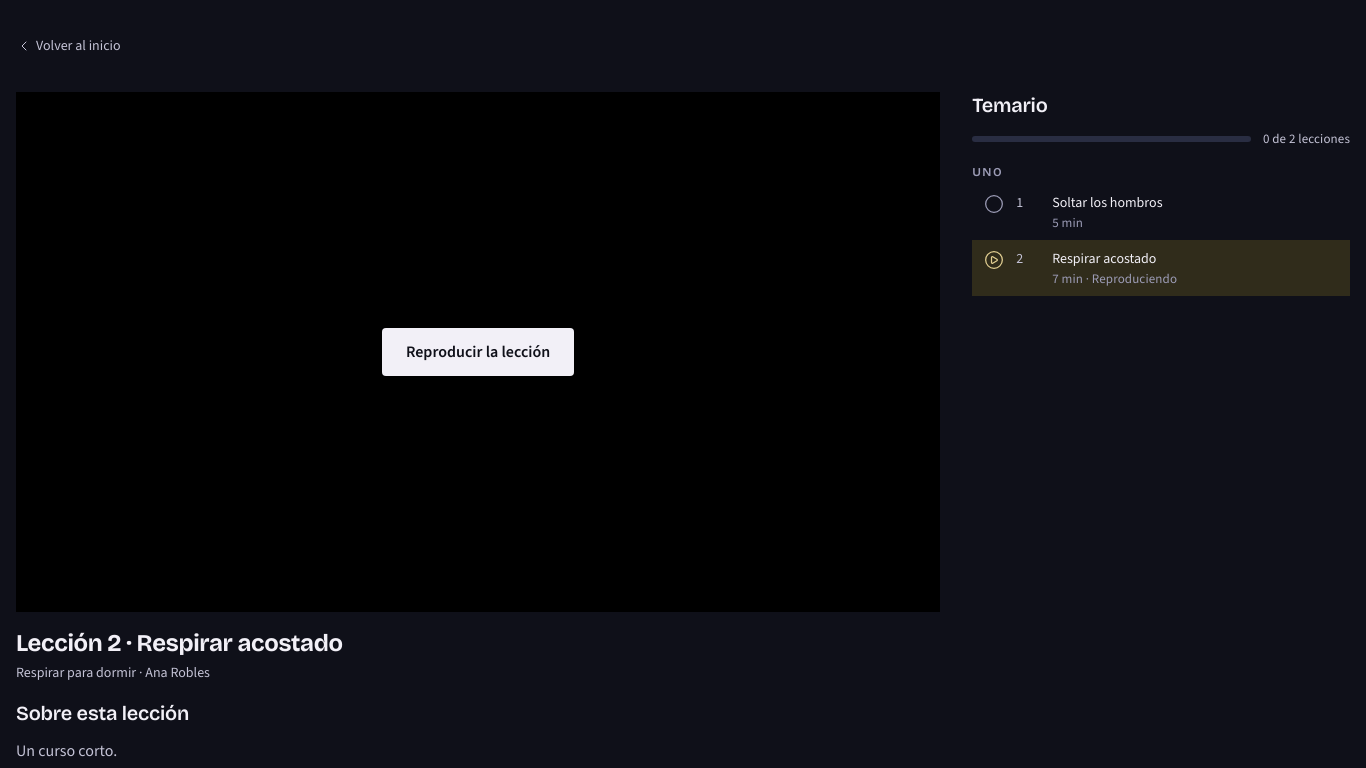
Test: PA-34: la cuenta ya reproduce en otro lugar (T-204, RF-107) › con más de una, en plural; y lo que no se sabe no se inventa
Click the button "Reproducir la lección".
click(478, 352)  # box [382, 328, 574, 376]
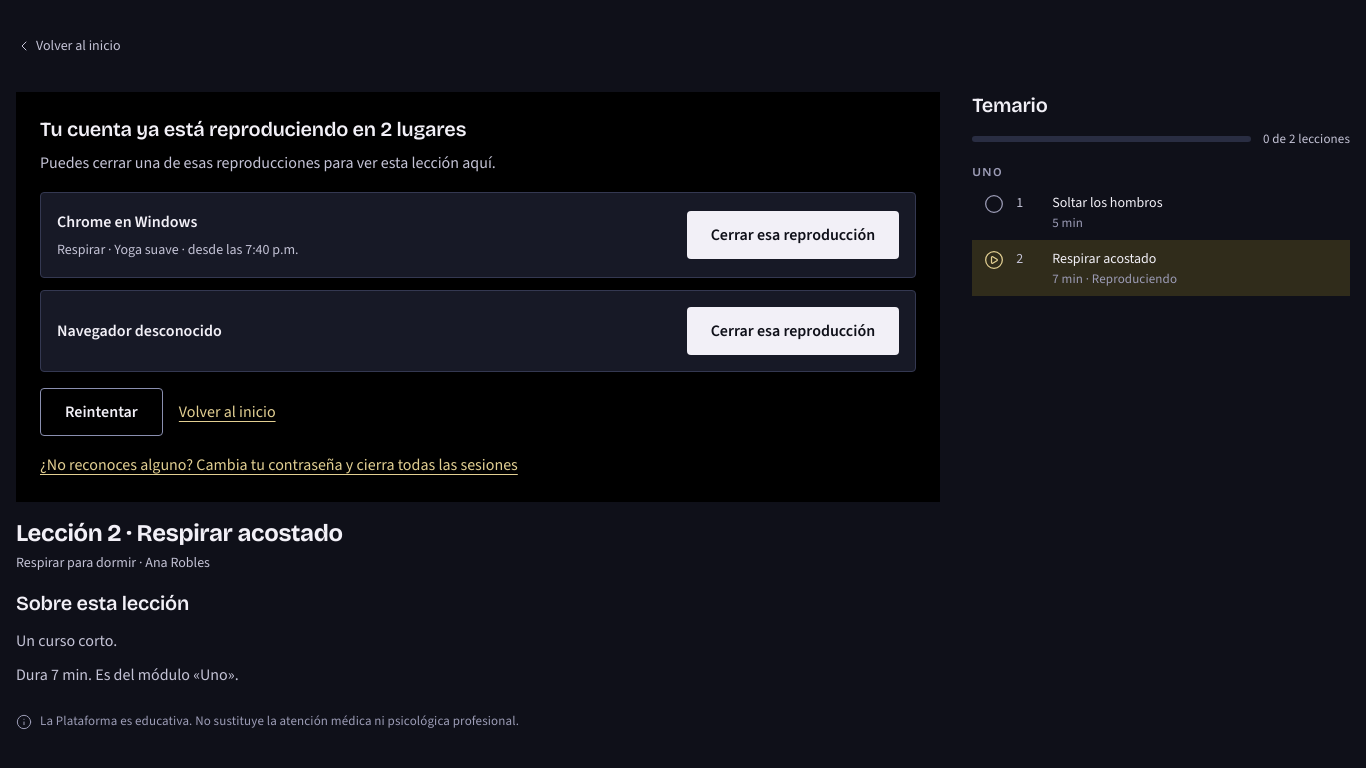
Result: the heading "Tu cuenta ya está reproduciendo en 2 lugares" is shown at [40, 117, 466, 141]
Result: the text "Puedes cerrar una de esas reproducciones para ver esta lección aquí." is shown at [40, 152, 496, 173]
